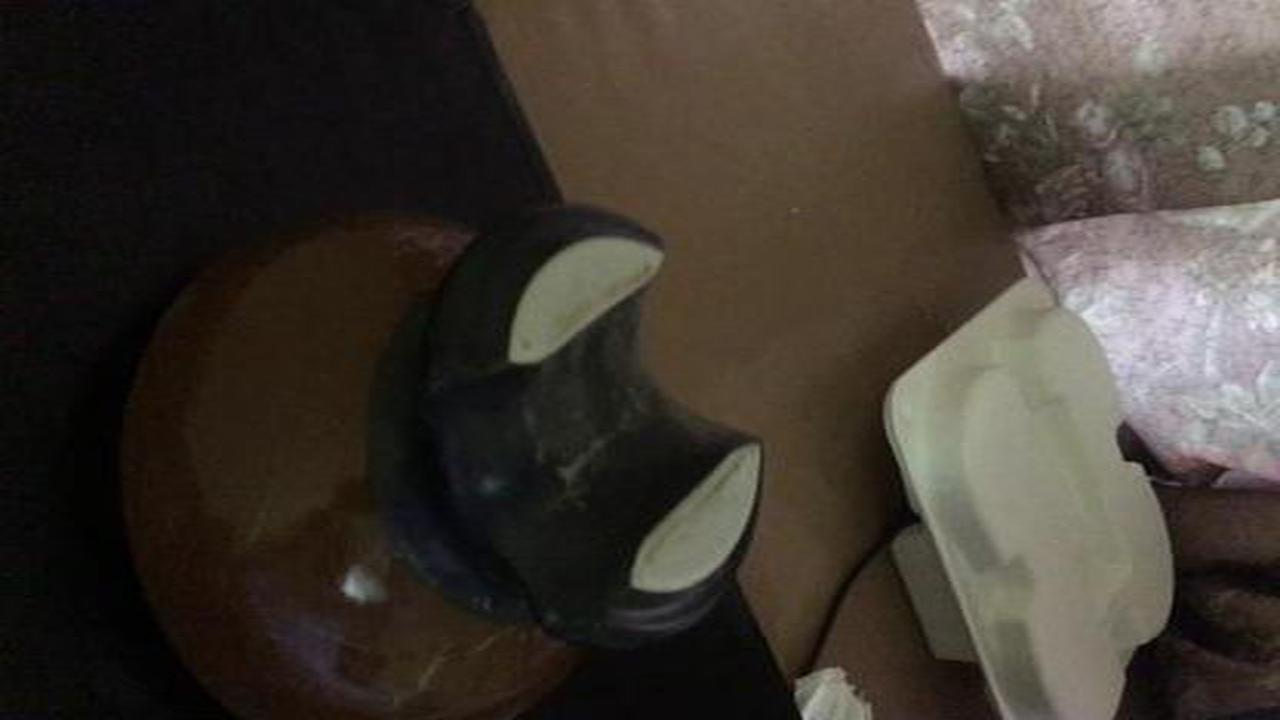insulator_pin: (84, 206, 791, 720)
